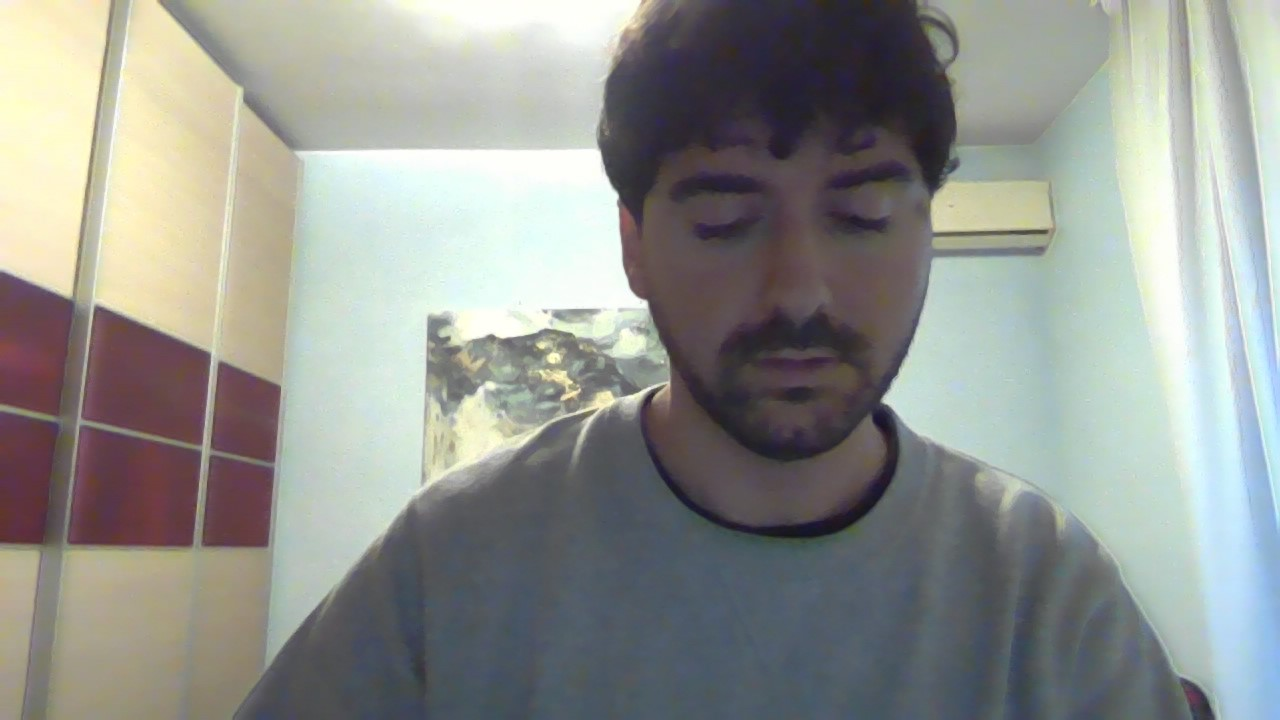NoGlasses: (605, 160, 961, 260)
